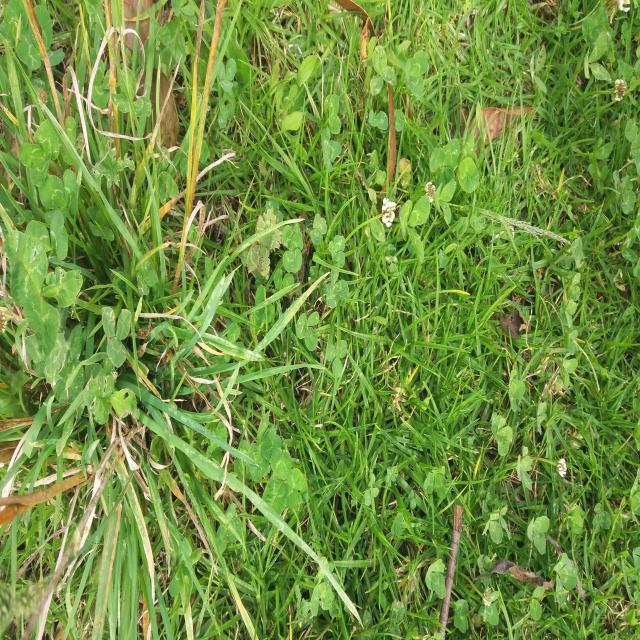Four Leaf Clover: (281, 224, 303, 273)
